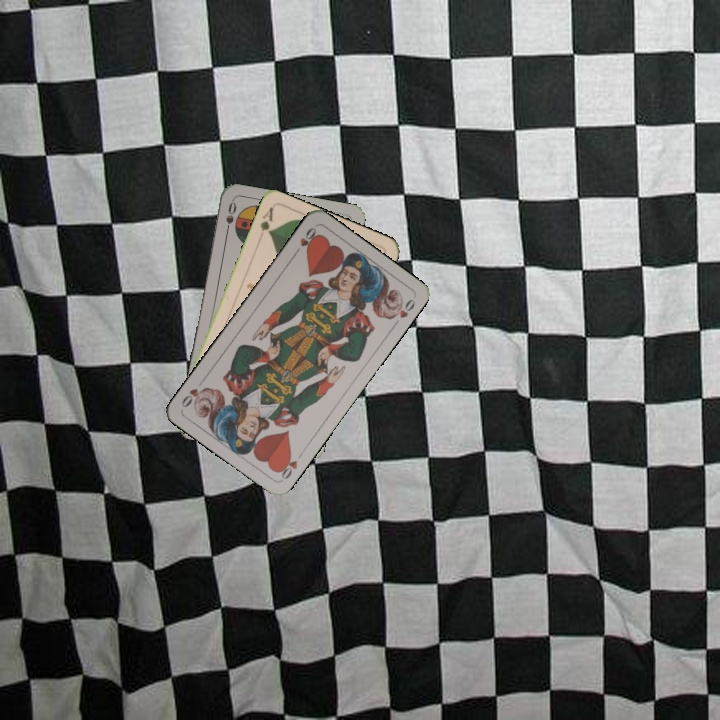GA: (256, 204, 276, 236)
HO: (273, 447, 306, 482), (290, 223, 320, 258)
SO: (222, 198, 239, 238)
